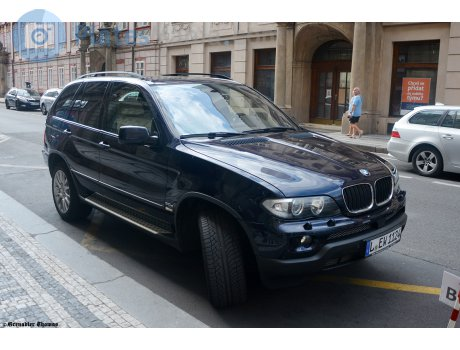License Plates: (370, 231, 405, 248)
